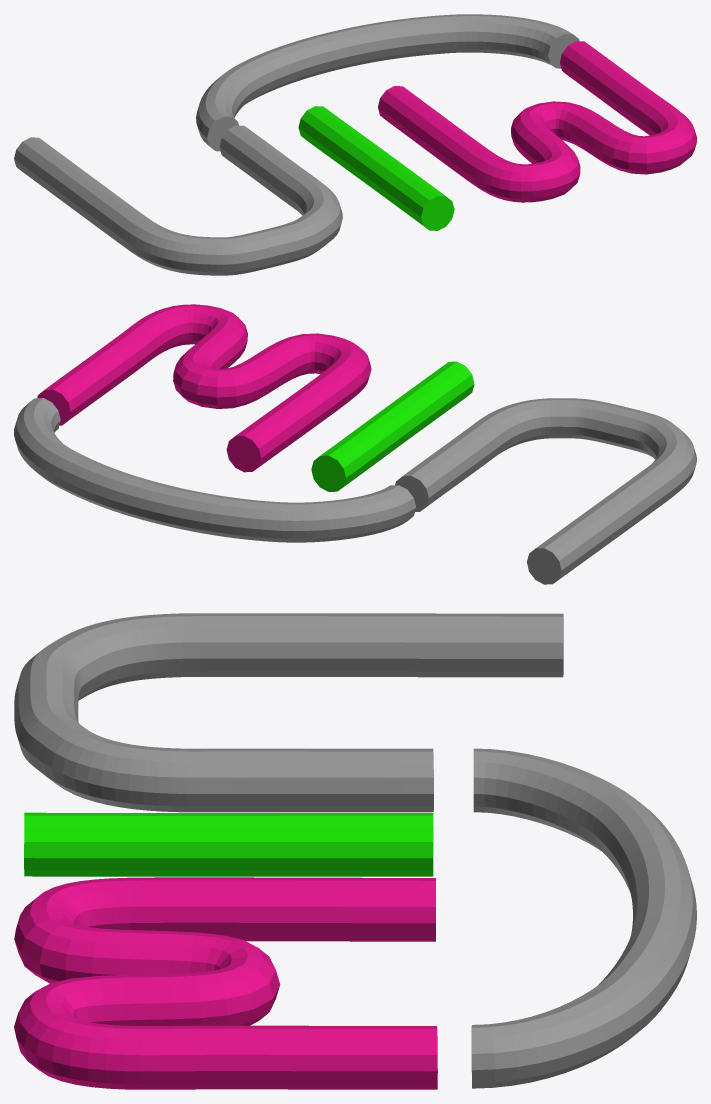
3 renders of one model, top to bottom at view 1: azimuth 30°, elevation 25°; view 2: azimuth 150°, elevation 25°; view 3: azimuth 270°, elevation 25°, orthographic. The views are drawn at different scales.
Parts seen in each view (by area): view 1: ベジエカーブ.002, ベジエカーブ, ベジエカーブ.003, ベジエカーブ.004; view 2: ベジエカーブ.002, ベジエカーブ, ベジエカーブ.003, ベジエカーブ.004; view 3: ベジエカーブ.002, ベジエカーブ, ベジエカーブ.003, ベジエカーブ.004.
Part boxes in pixels (x1,y1,x2,y2): ベジエカーブ.002: (378,41,696,202); ベジエカーブ: (14,125,342,275); ベジエカーブ.003: (196,14,579,151); ベジエカーブ.004: (298,106,454,230); ベジエカーブ.002: (37,304,371,472); ベジエカーブ: (395,398,696,584); ベジエカーブ.003: (14,398,416,542); ベジエカーブ.004: (311,361,474,491); ベジエカーブ.002: (14,877,437,1089); ベジエカーブ: (14,613,563,812); ベジエカーブ.003: (471,748,696,1088); ベジエカーブ.004: (24,812,433,876).
Bounding box in the file's own units: 651 × 40 × 427.
